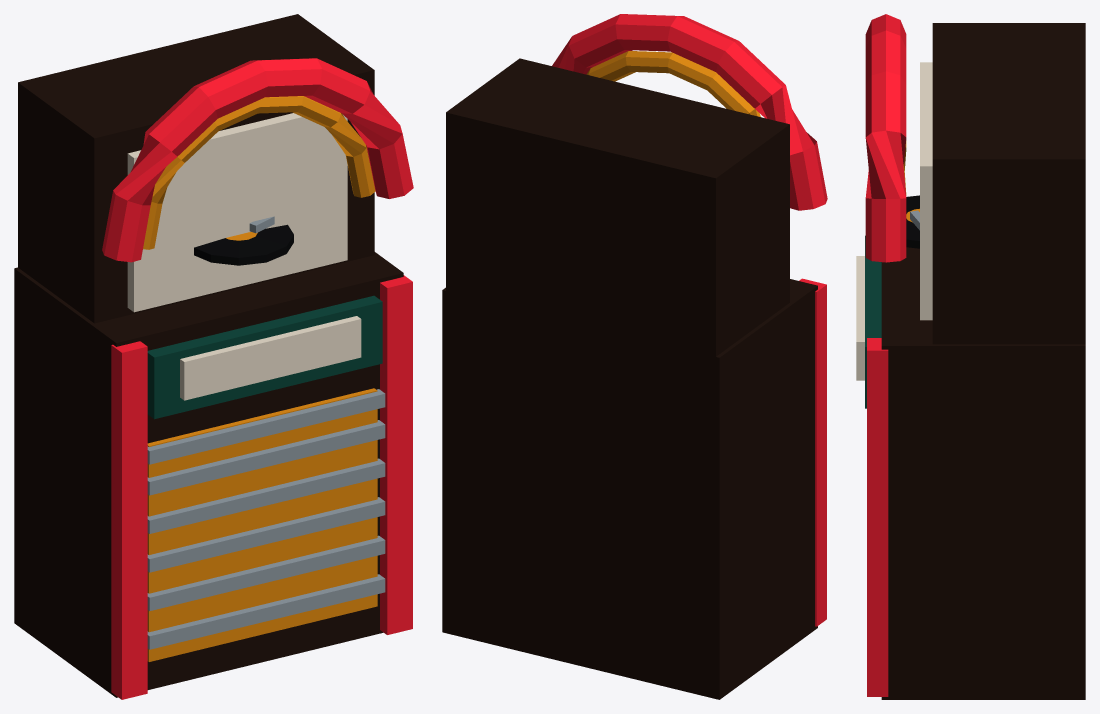
The model's file is cozy_bowling_jukebox_bubbler.obj.
3 renders of one model, left to right at view 1: azimuth 30°, elevation 25°; view 2: azimuth 150°, elevation 25°; view 3: azimuth 270°, elevation 25°, orthographic. The views are drawn at different scales.
Parts seen in each view (by area): view 1: Jukebox_Mesh; view 2: Jukebox_Mesh; view 3: Jukebox_Mesh.
Boxes of the visible parts, <box> form: Jukebox_Mesh: <box>14,14,413,699</box>; Jukebox_Mesh: <box>442,14,827,699</box>; Jukebox_Mesh: <box>856,14,1085,699</box>.
Size of the model in its own units: 0.8342 by 1.56 by 0.54.
